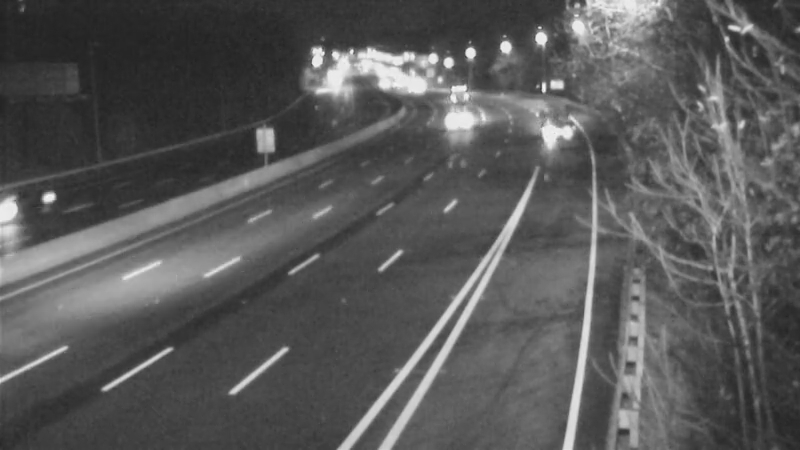vehicle: (1, 170, 68, 250), (438, 70, 488, 120), (532, 105, 582, 155), (433, 97, 483, 147)
